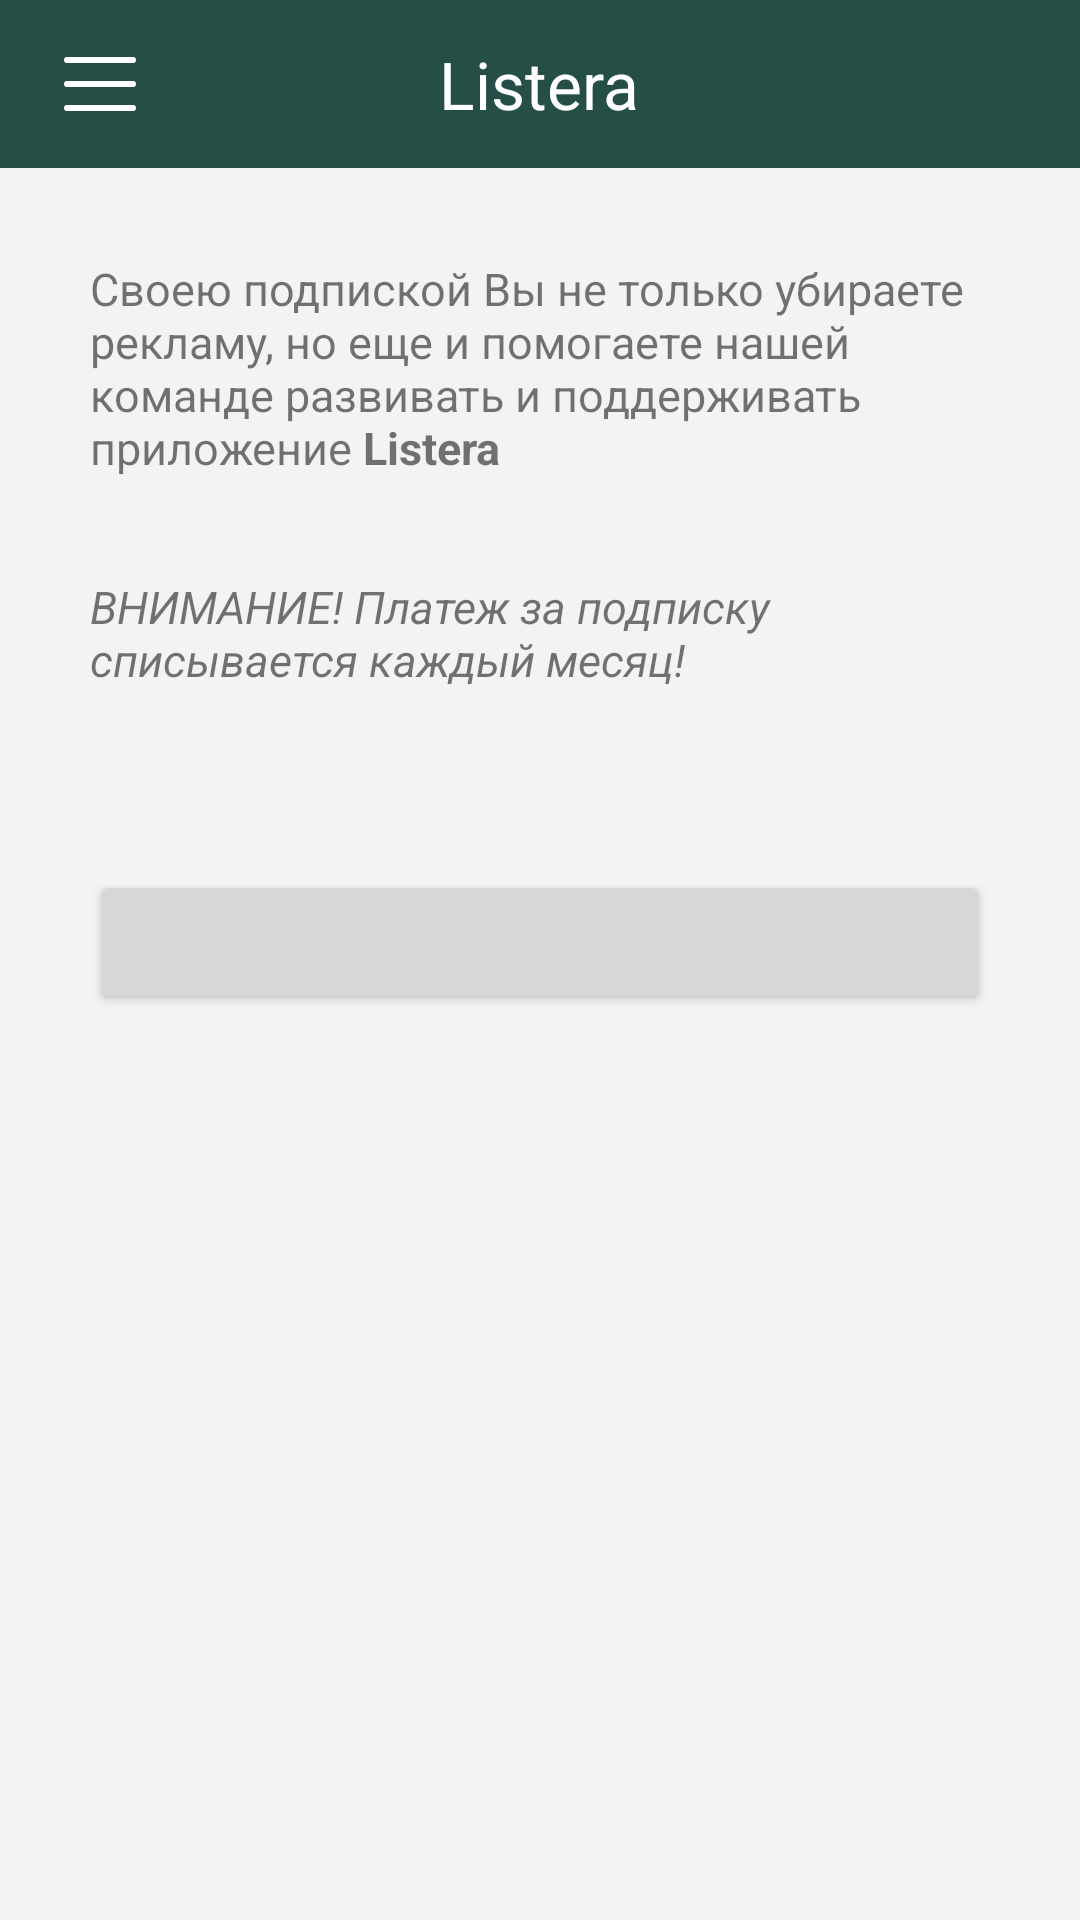

Locate icon controls on the screen. Image size 1080x1920, boxes as (x1, y1, x2, y2).
bar: (64, 57, 136, 111)
